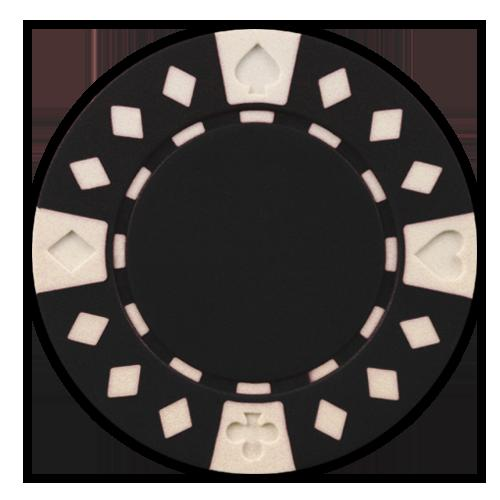chip-black: (24, 22, 484, 482)
